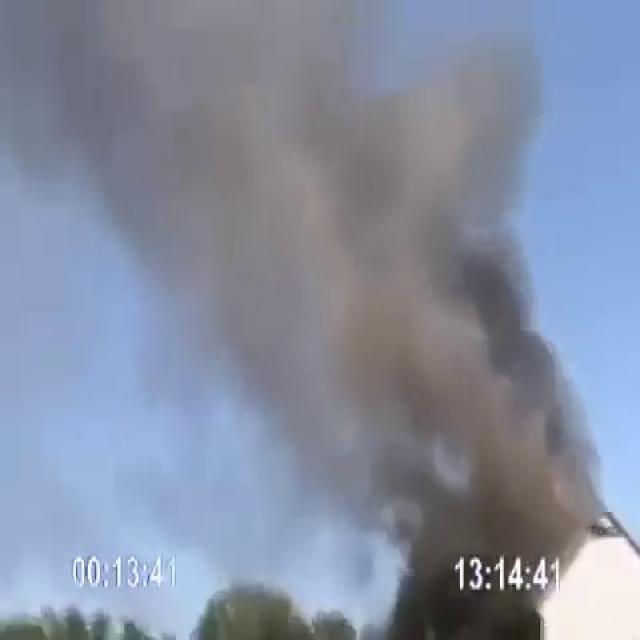Smoke: (3, 0, 602, 608)
